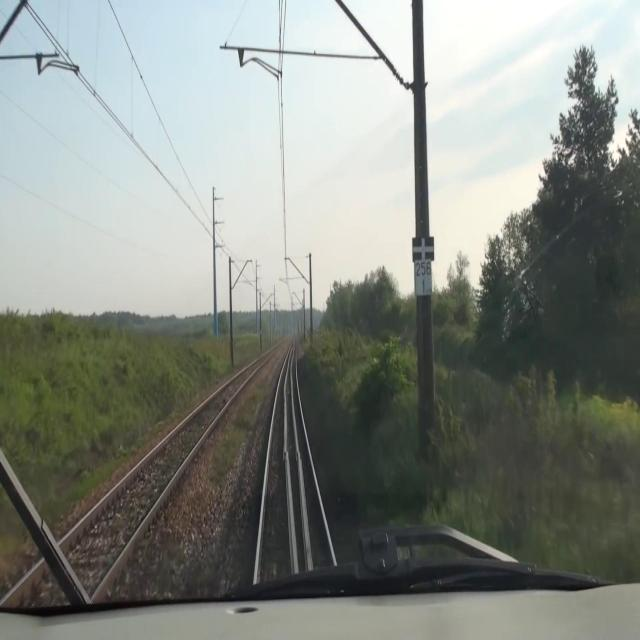rail-track: (1, 360, 261, 607), (257, 340, 332, 582)
